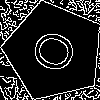O: (29, 26, 87, 80)
